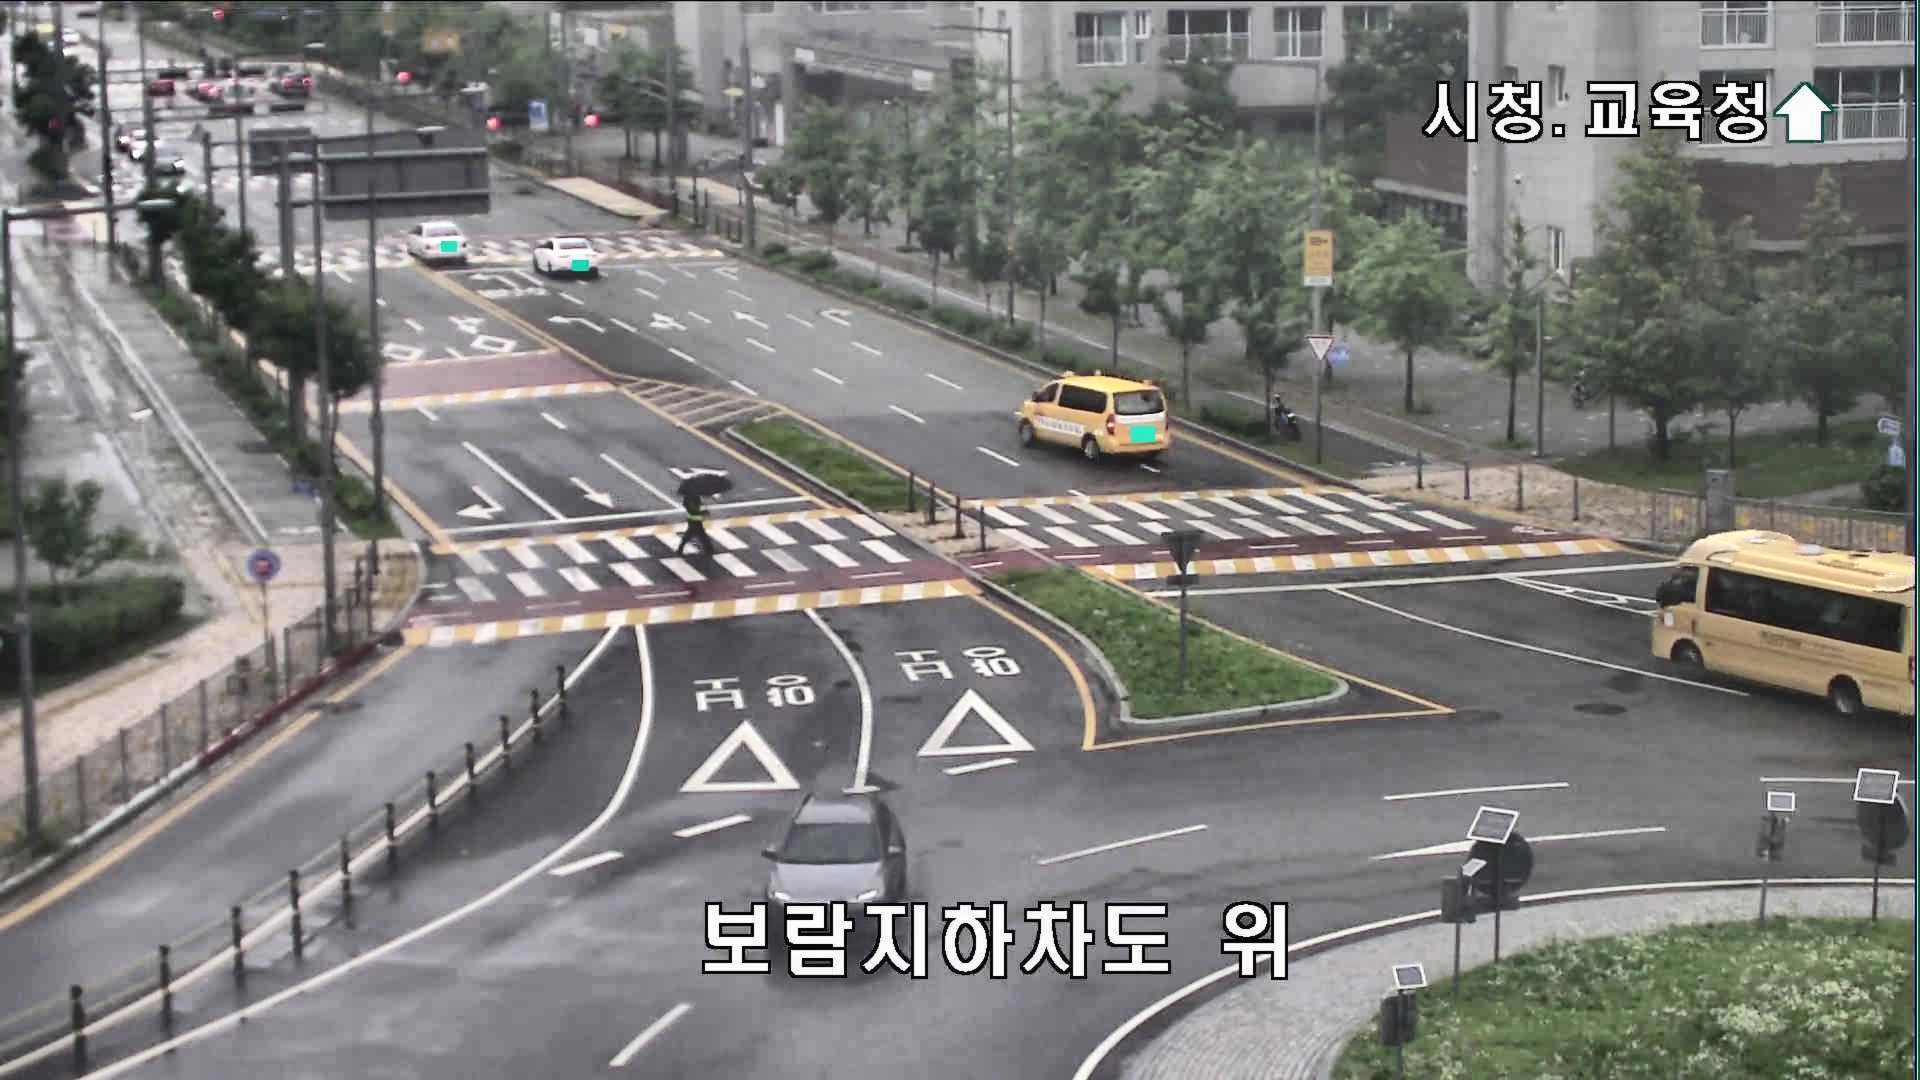um_crosswalk: (676, 473, 735, 559)
